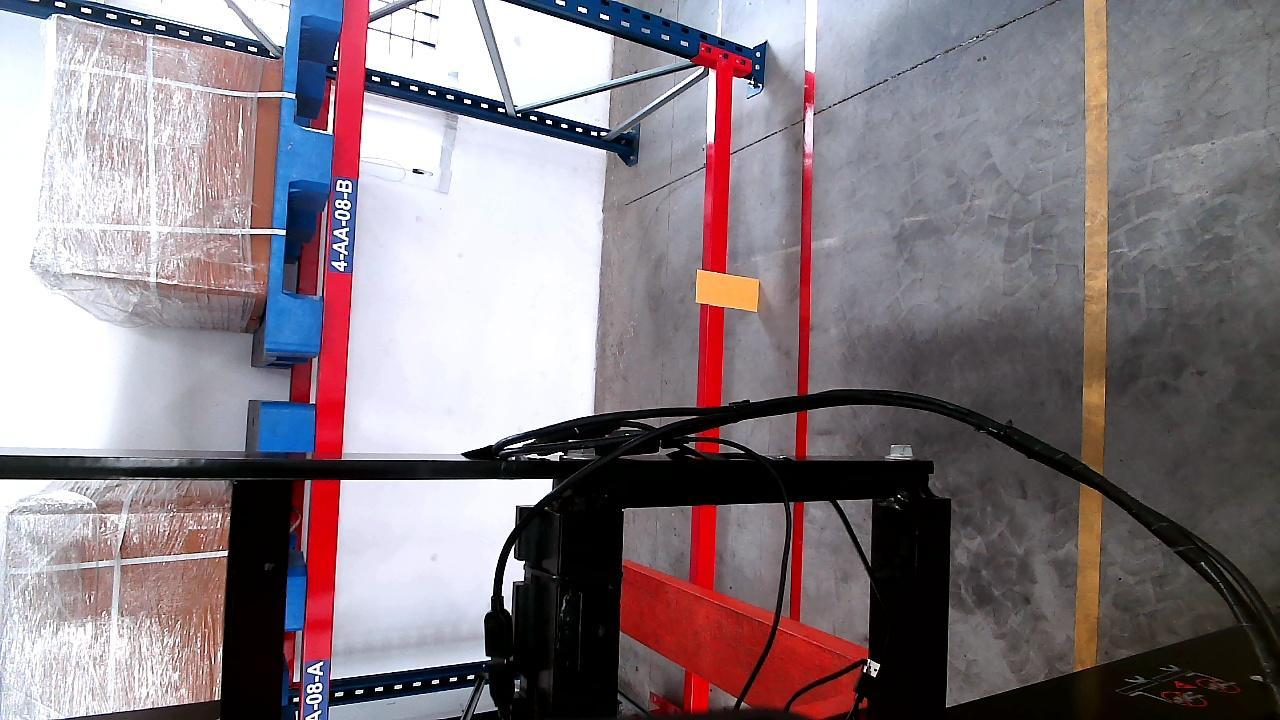red_line: (791, 0, 819, 617)
yellow_line: (1079, 0, 1107, 674)
